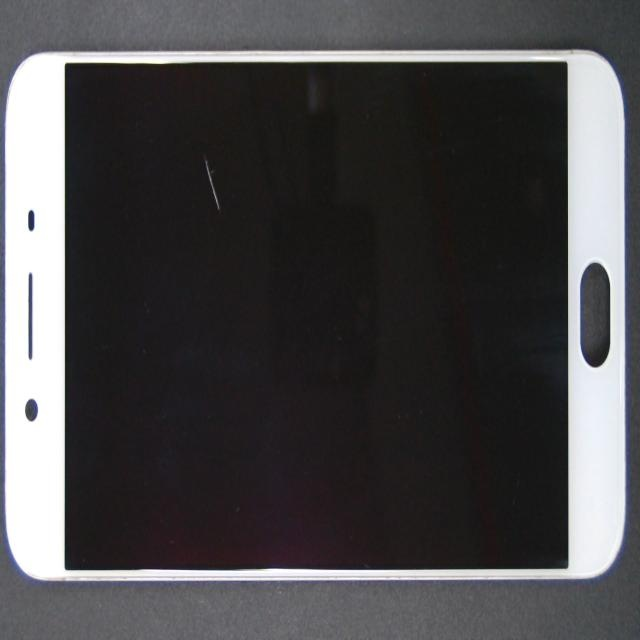scratch: (128, 147, 329, 283)
